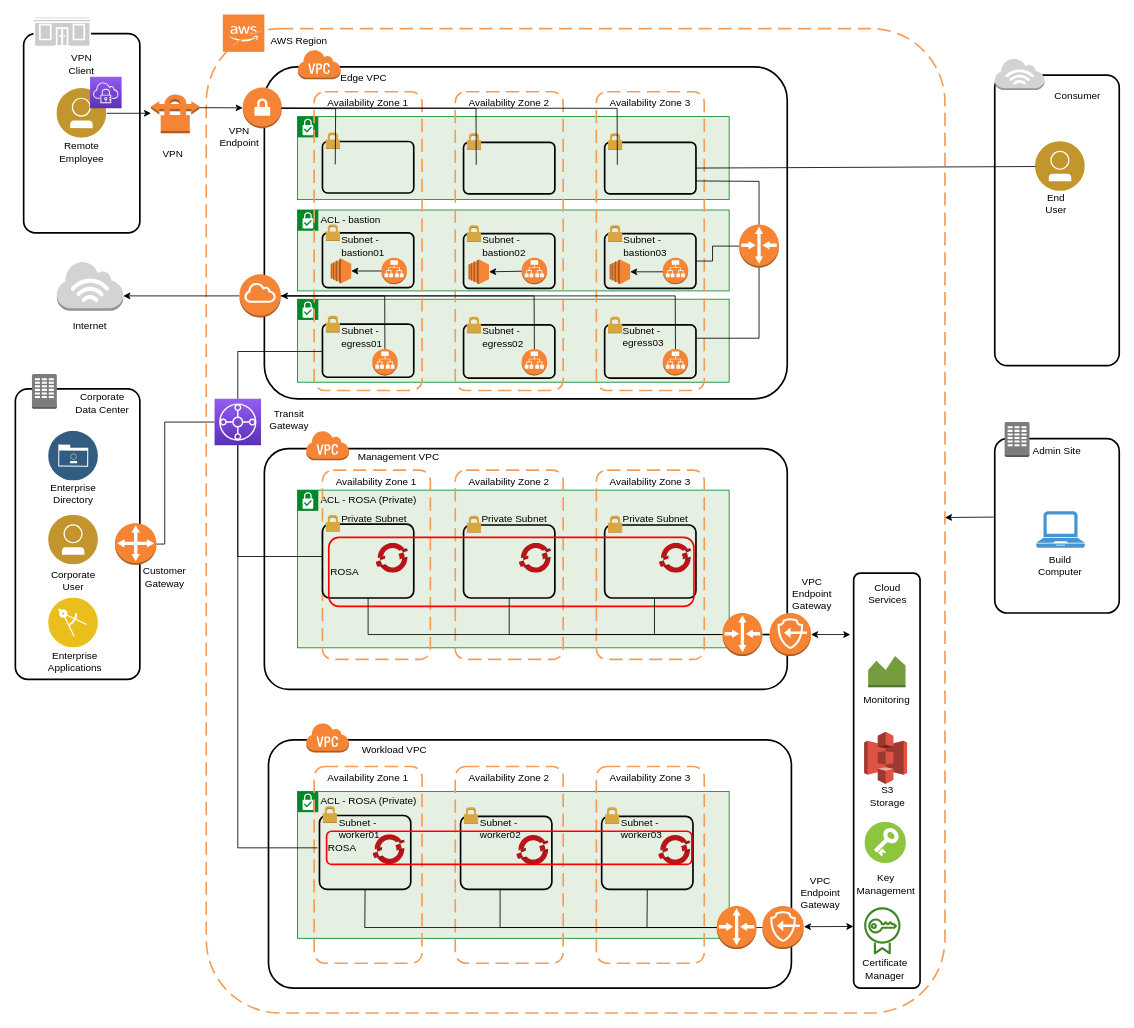
Some shapes in this 1134 by 1028 pixel diagram are drawn without their labels. The centre of each missing label's shape, as x and y in pixels:
"ACL - egress" belongs at pixel 513 340.
"ACL - ingress" belongs at pixel 513 158.
"Subnet - ingress01" belongs at pixel 367 166.
"Subnet - ingress02" belongs at pixel 508 167.
"Subnet - ingress03" belongs at pixel 649 167.
